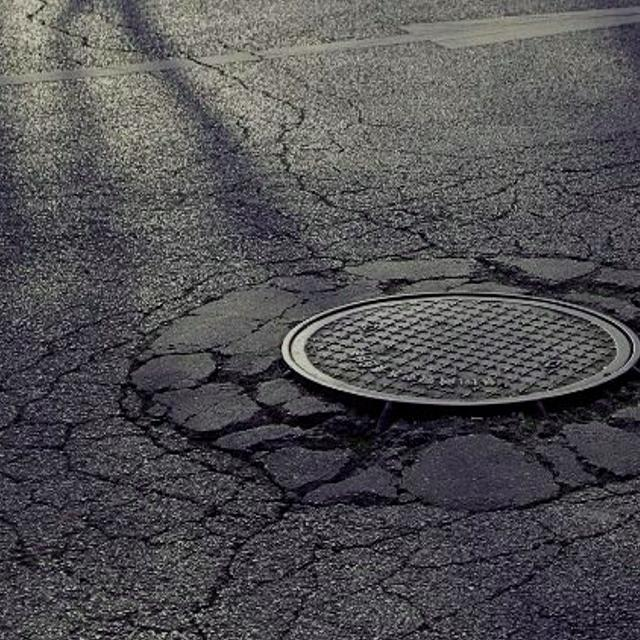circle: (102, 244, 640, 544)
